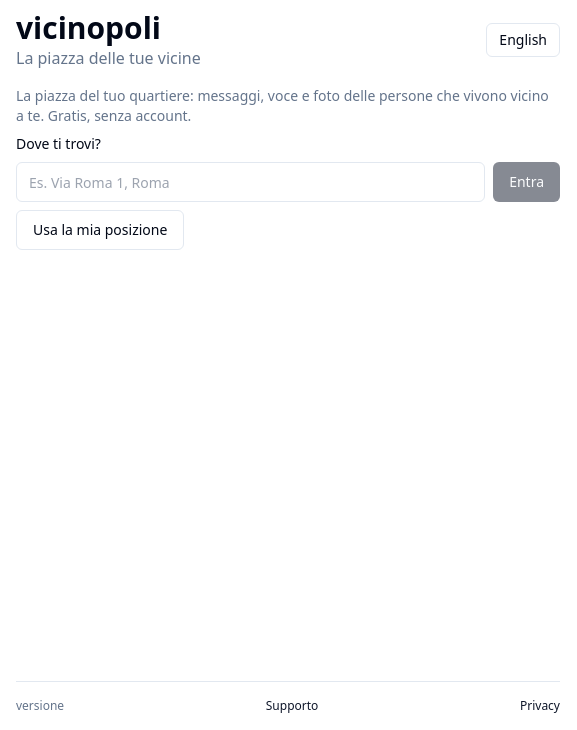
Test: App › keeps the submit disabled until an address is entered
Expected: the button with test id "address-submit" is disabled, [493,162,560,202]
Type "Via Roma 1, Roma" into the dropdown with test id "address-input" at (251, 182), box [16,162,485,202]
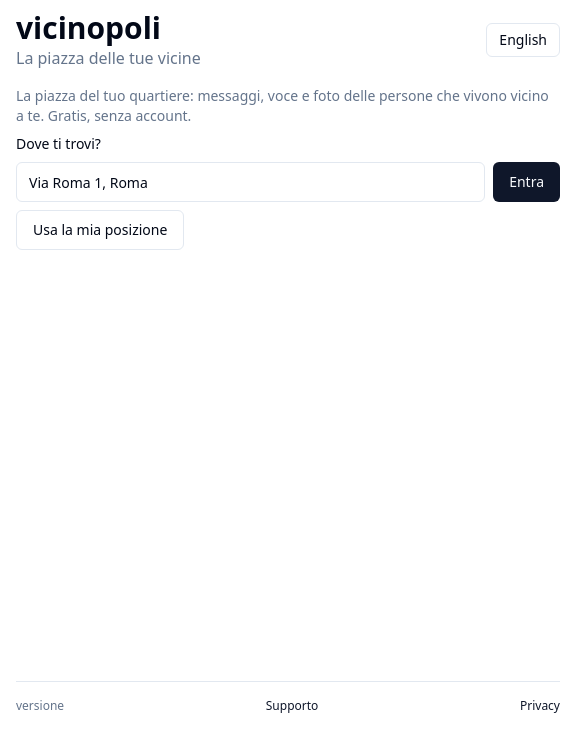
Expected: the button with test id "address-submit" is enabled, [493,162,560,202]
